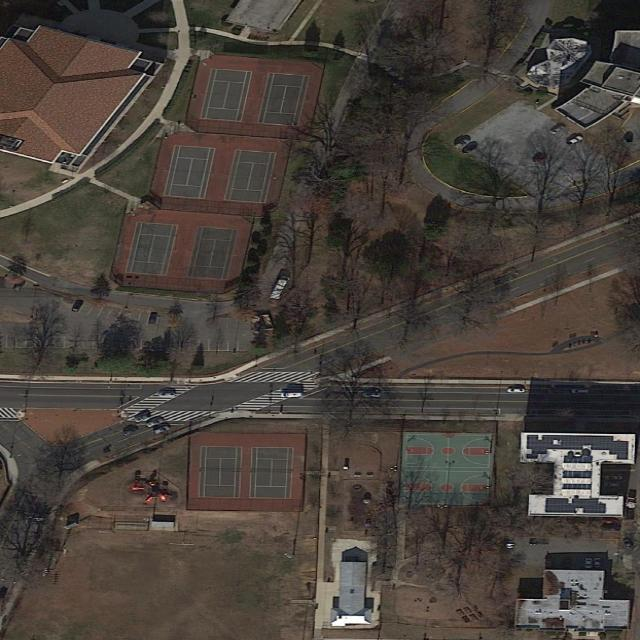large-vehicle: (269, 276, 293, 300)
small-vehicle: (453, 138, 470, 150), (548, 125, 568, 135), (153, 425, 173, 434), (133, 414, 152, 423), (146, 418, 165, 427), (71, 300, 84, 312), (567, 136, 584, 145), (464, 142, 479, 152), (625, 509, 637, 521), (149, 311, 158, 327), (11, 280, 24, 291), (362, 391, 382, 398), (505, 535, 515, 549), (529, 540, 550, 546), (507, 388, 528, 394), (584, 558, 595, 569), (624, 538, 635, 549), (159, 391, 178, 397), (572, 388, 590, 394), (626, 132, 636, 142), (283, 393, 303, 398), (595, 557, 603, 569)
